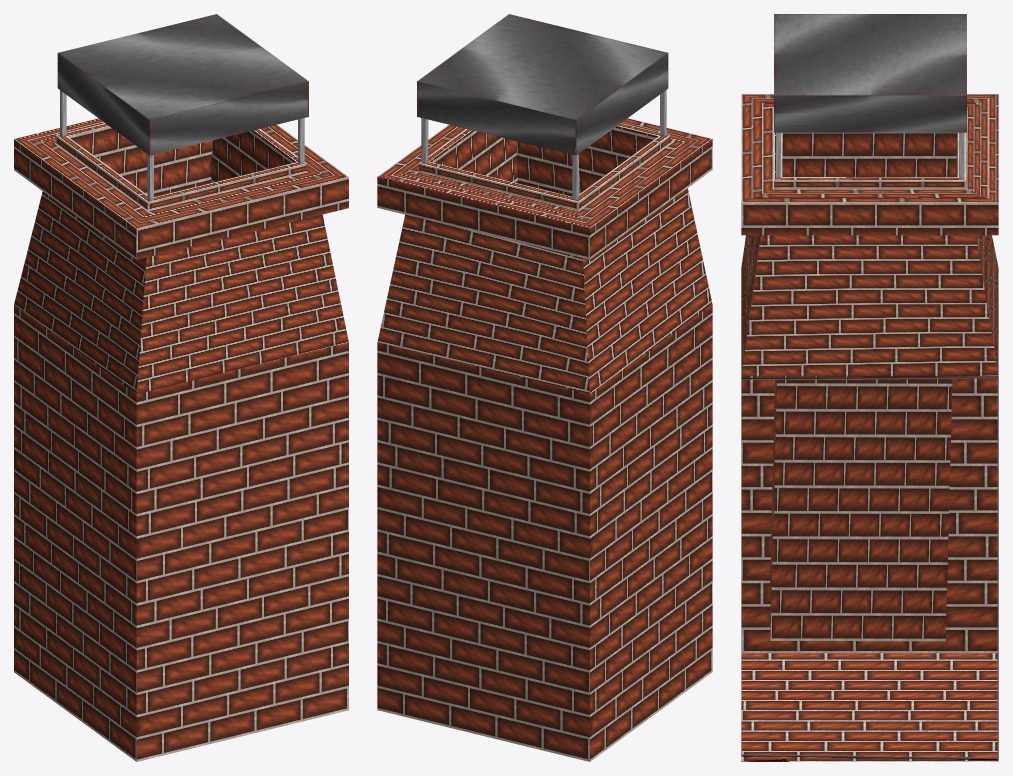
Rendered from chimney.obj.
3 renders of one model, left to right at view 1: azimuth 30°, elevation 25°; view 2: azimuth 150°, elevation 25°; view 3: azimuth 270°, elevation 25°, orthographic. The views are drawn at different scales.
Visible parts, largest first — view 1: Cube.003_Cube.006; view 2: Cube.003_Cube.006; view 3: Cube.003_Cube.006.
Part boxes in pixels (<box>): Cube.003_Cube.006: <box>14,14,348,761</box>; Cube.003_Cube.006: <box>377,14,712,761</box>; Cube.003_Cube.006: <box>741,14,998,761</box>.
Size of the model in its own units: 2 by 5.61 by 2.
